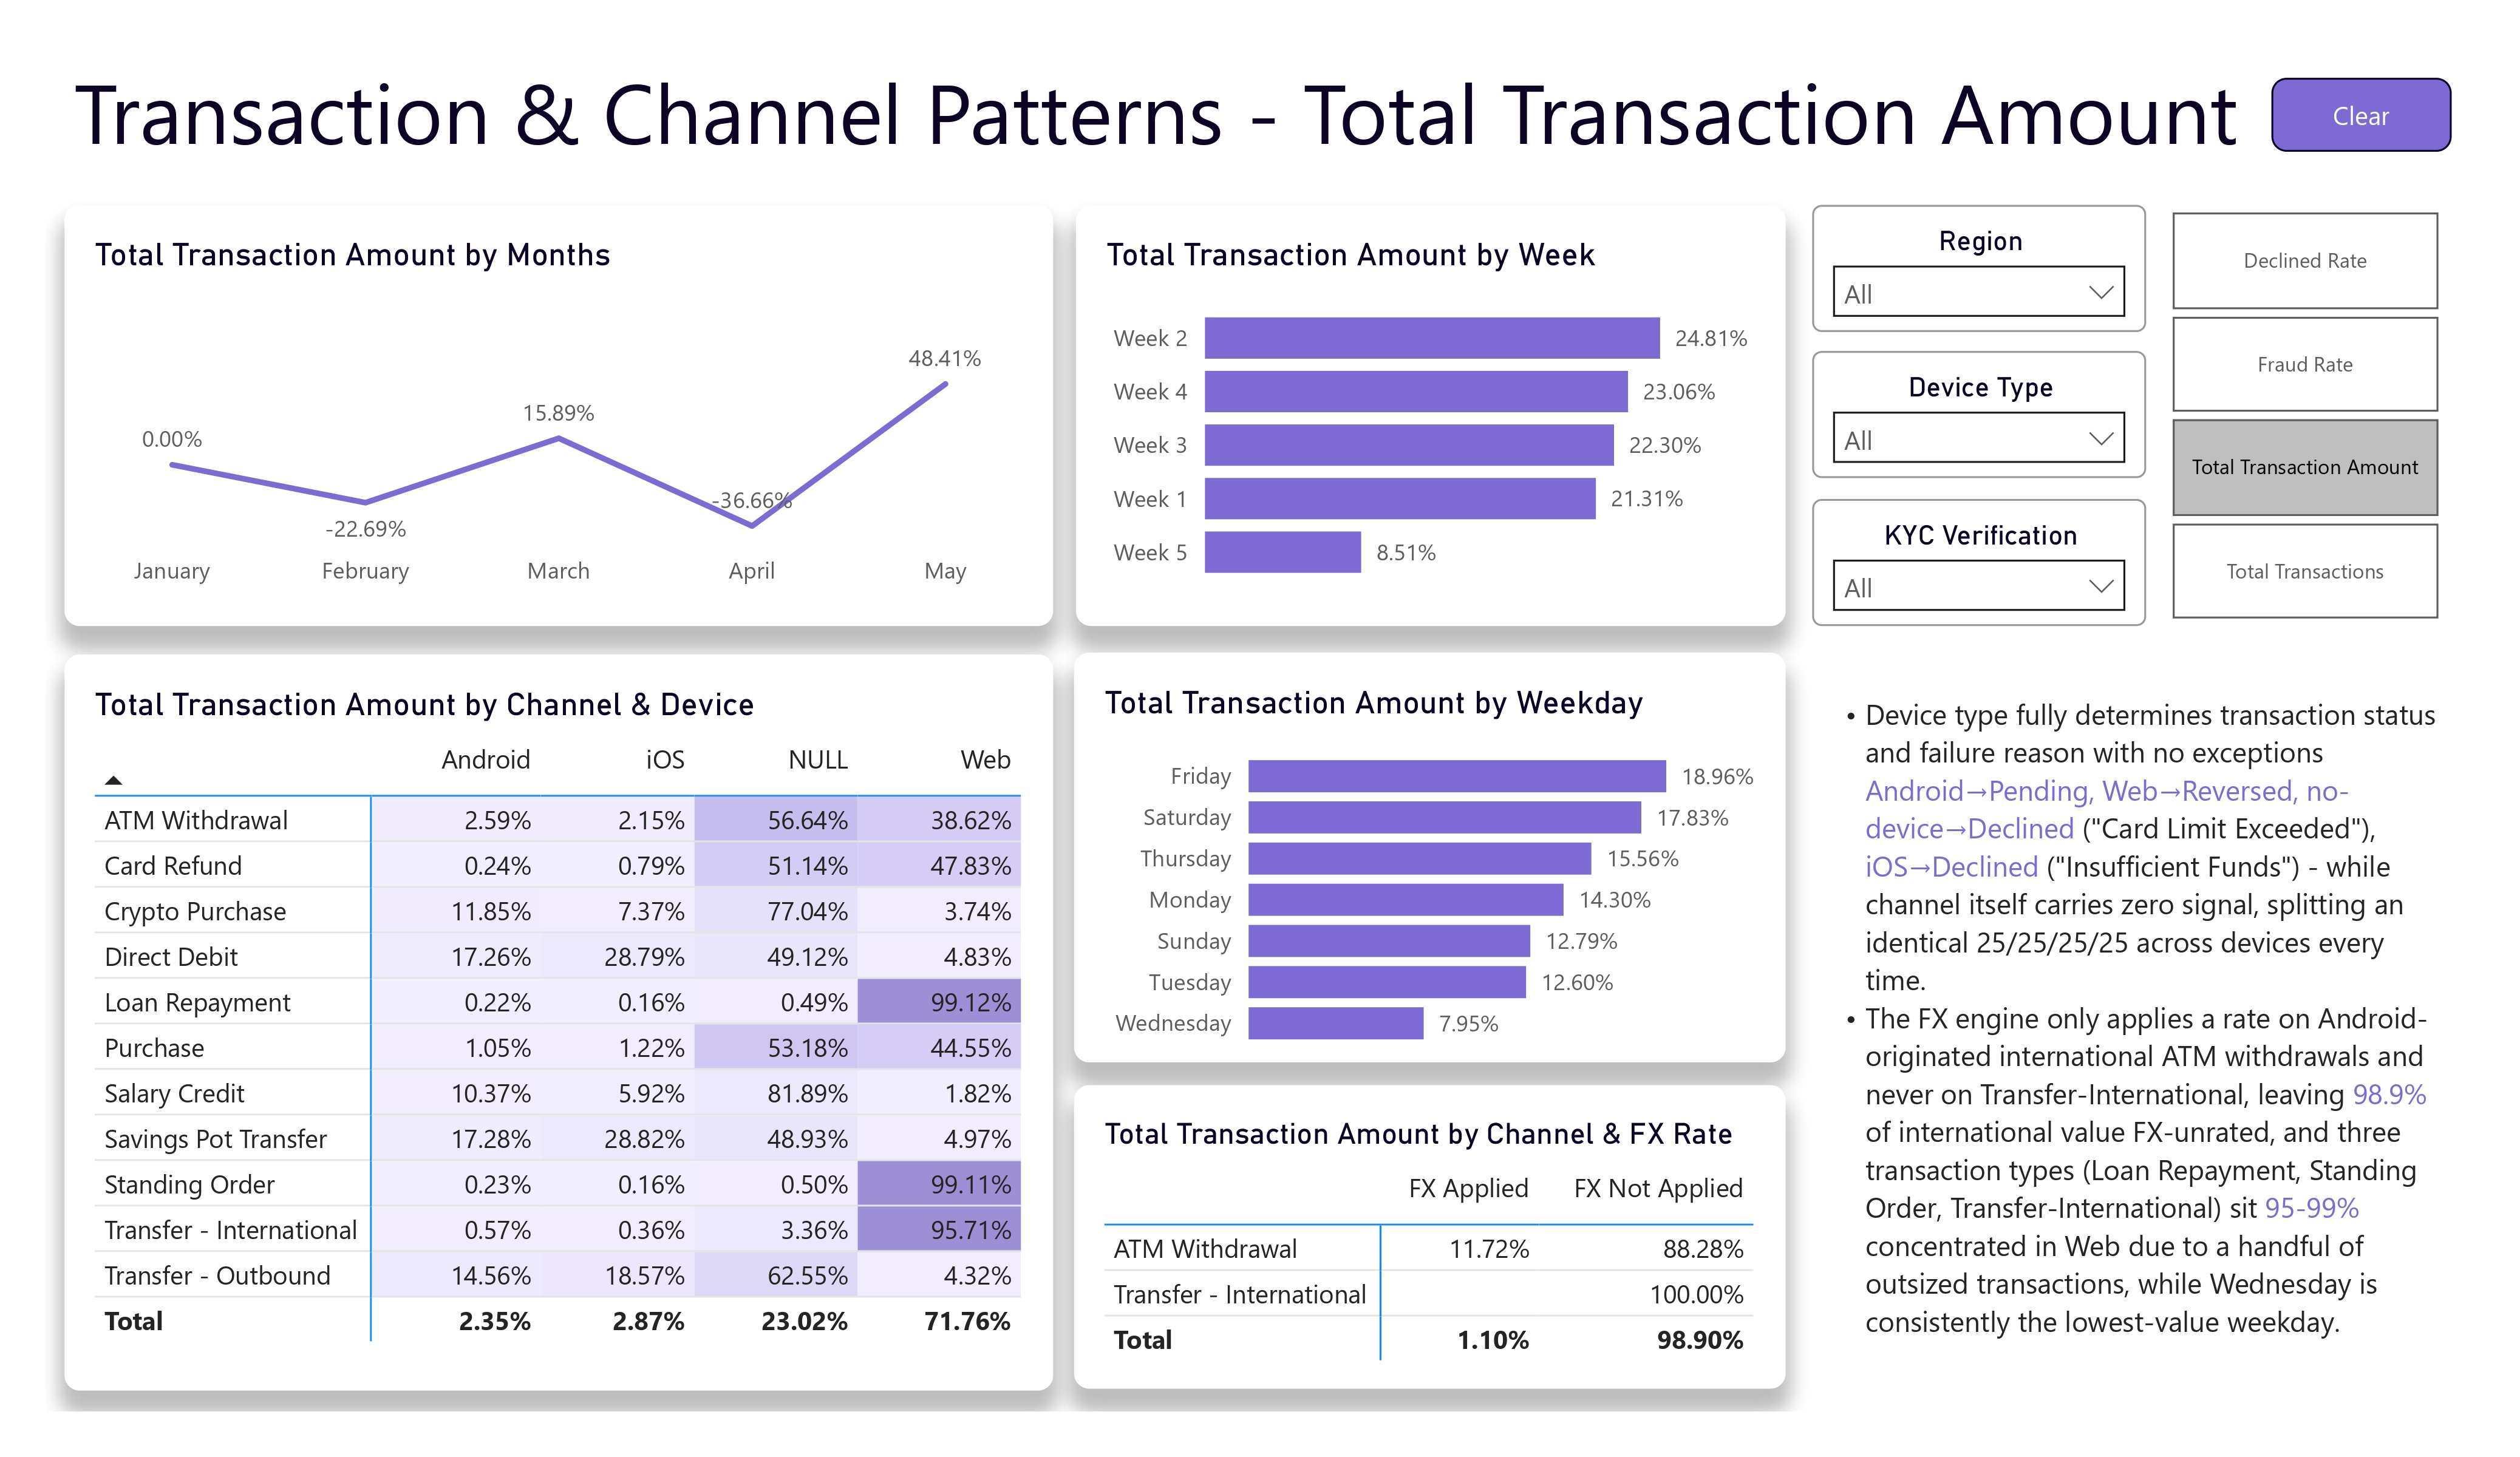

This screenshot's page, from the dashboard's own definition file:
{"tool":"powerbi","page":{"name":"Transactions & Channel Patterns","canvas":[1280,720],"ordinal":1},"visuals":[{"type":"textbox","box":[10.3,0,1213.7,72],"z":0},{"type":"slicer","fields":{"Values":["Parameter.Measure Parameter"]},"box":[1095.2,85.7,184.8,218.4],"z":1000},{"type":"lineChart","fields":{"Y":["Measure table.MoM"],"Category":["Datetable.Month Name"]},"box":[10.1,84,520.7,221.7],"z":2000},{"type":"clusteredBarChart","fields":{"Category":["zephyr.weekno"],"Y":["Measure table.Measure"]},"box":[542.6,84,374.6,221.7],"z":3000},{"type":"clusteredBarChart","fields":{"Category":["zephyr.weekday"],"Y":["Measure table.Measure"]},"box":[542.2,320.3,374.7,216],"z":4000},{"type":"pivotTable","fields":{"Rows":["zephyr.type_name"],"Columns":["zephyr.device_type"],"Values":["Measure table.Table Measure"]},"box":[10.1,320.8,520.7,388],"z":5000},{"type":"pivotTable","fields":{"Rows":["zephyr.type_name"],"Columns":["zephyr.fx_rate_check"],"Values":["Measure table.Table Measure"]},"box":[542.2,548.1,374.7,160.2],"z":6000},{"type":"slicer","title":"Region","fields":{"Values":["zephyr.region"]},"box":[930.6,84,176.4,67.2],"z":7000},{"type":"slicer","title":"Device Type","fields":{"Values":["zephyr.device_type"]},"box":[930.6,161.3,176.4,67.2],"z":8000},{"type":"slicer","title":"KYC Verification","fields":{"Values":["zephyr.KYC Verified Category"]},"box":[930.6,238.5,176.4,67.2],"z":9000},{"type":"actionButton","box":[1172.5,17.3,95.4,39],"z":10000},{"type":"textbox","box":[931.6,320.3,336.5,387.9],"z":10001}]}

Visuals, with their boxes on the page's 1280x720 design canvas (x1, y1, x2, y2). These are canvas units, not pixel positions in the 2520x1457 screenshot, which may show the page scaled, cropped or inside an application window:
textbox: 10:0:1224:72
slicer - Parameter.Measure Parameter: 1095:86:1280:304
lineChart - Measure table.MoM x Datetable.Month Name: 10:84:531:306
clusteredBarChart - zephyr.weekno x Measure table.Measure: 543:84:917:306
clusteredBarChart - zephyr.weekday x Measure table.Measure: 542:320:917:536
pivotTable - zephyr.type_name x zephyr.device_type: 10:321:531:709
pivotTable - zephyr.type_name x zephyr.fx_rate_check: 542:548:917:708
"Region" slicer: 931:84:1107:151
"Device Type" slicer: 931:161:1107:228
"KYC Verification" slicer: 931:238:1107:306
actionButton: 1172:17:1268:56
textbox: 932:320:1268:708
